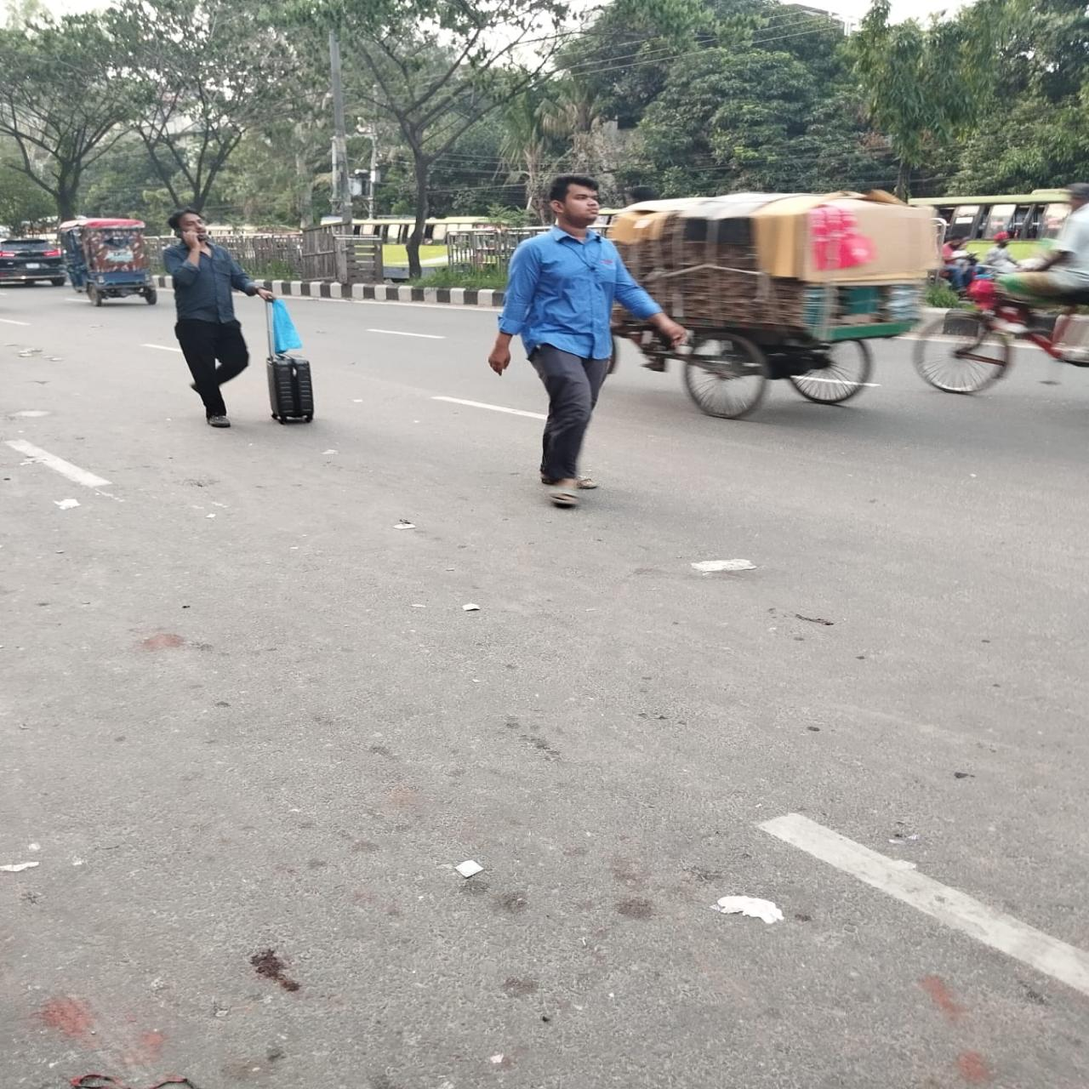person: (491, 174, 693, 510), (164, 208, 281, 430)
